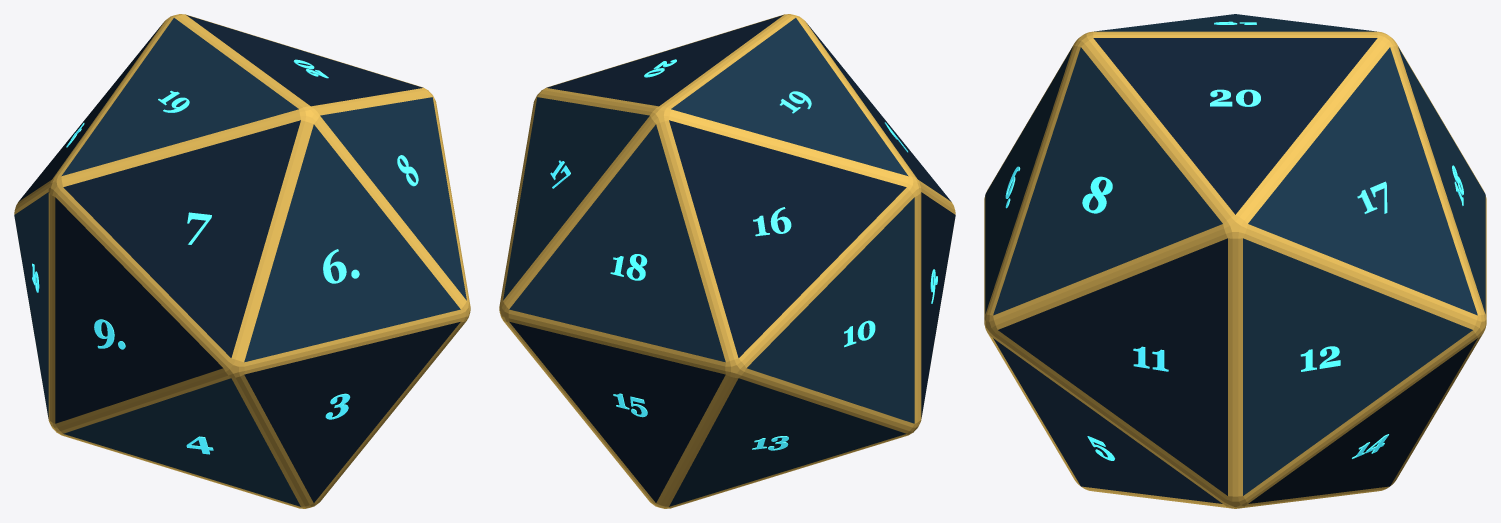
File: d20_leo.glb
The picture shows the model from 3 angles, left to right: view 1: azimuth 30°, elevation 25°; view 2: azimuth 150°, elevation 25°; view 3: azimuth 270°, elevation 25°; orthographic projection. The views are drawn at different scales.
Parts seen in each view (by area): view 1: DiceBody; view 2: DiceBody, Number_18; view 3: DiceBody, Number_08, Number_20.
Boxes of the visible parts, x1,y1,x2,y2 form: DiceBody: (14, 14, 470, 508); DiceBody: (499, 14, 955, 508); Number_18: (610, 254, 647, 280); DiceBody: (984, 14, 1486, 508); Number_08: (1082, 176, 1112, 213); Number_20: (1210, 89, 1260, 106).
Bounding box in the file's own units: 3.38 × 3.38 × 3.38.
